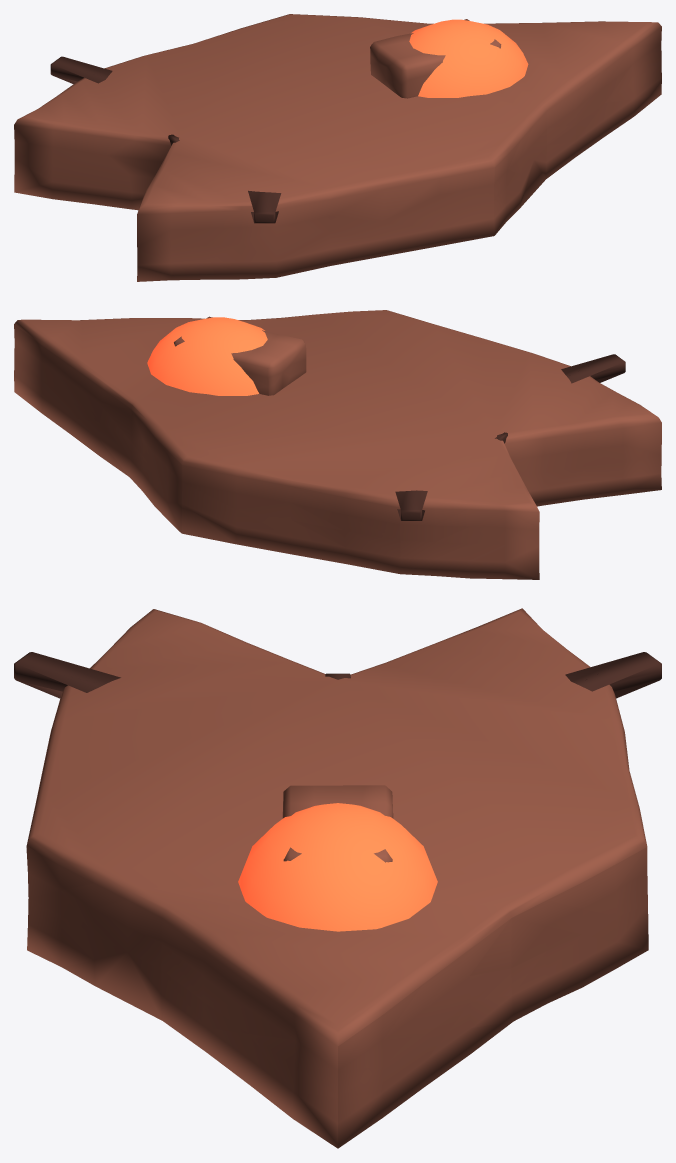
The model's file is hunter_pre.glb.
The picture shows the model from 3 angles, top to bottom: view 1: azimuth 30°, elevation 25°; view 2: azimuth 150°, elevation 25°; view 3: azimuth 270°, elevation 25°; orthographic projection. The views are drawn at different scales.
Parts seen in each view (by area): view 1: VR_Hunter_Hull, VR_Hunter_Core, VR_Hunter_Fin; view 2: VR_Hunter_Hull, VR_Hunter_Core, VR_Hunter_Fin; view 3: VR_Hunter_Hull, VR_Hunter_Core, VR_Hunter_Fin.
Boxes of the visible parts, box(x1,y1,x2,y2) form: VR_Hunter_Hull: box(14, 14, 661, 281); VR_Hunter_Core: box(409, 19, 528, 97); VR_Hunter_Fin: box(50, 56, 281, 223); VR_Hunter_Hull: box(14, 310, 661, 579); VR_Hunter_Core: box(147, 317, 267, 395); VR_Hunter_Fin: box(395, 354, 625, 520); VR_Hunter_Hull: box(26, 608, 648, 1148); VR_Hunter_Core: box(238, 803, 437, 931); VR_Hunter_Fin: box(14, 652, 661, 698).
Size of the model in its own units: 3.04 by 0.634 by 1.92.
